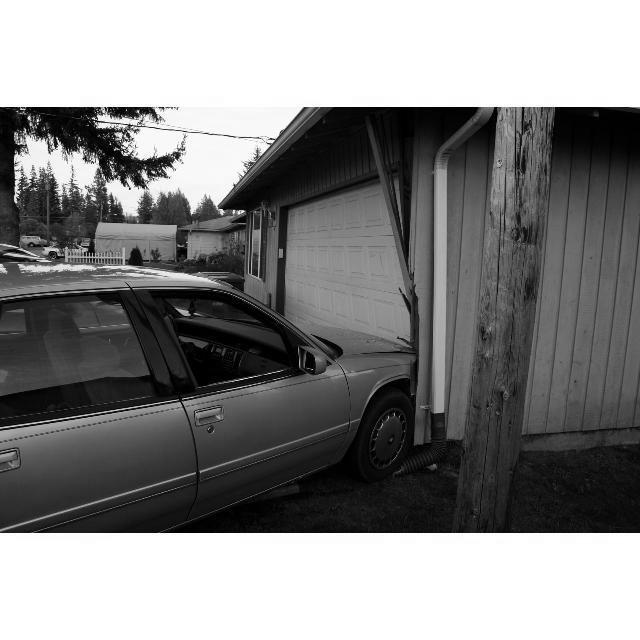fender-dent: (336, 342, 423, 420)
